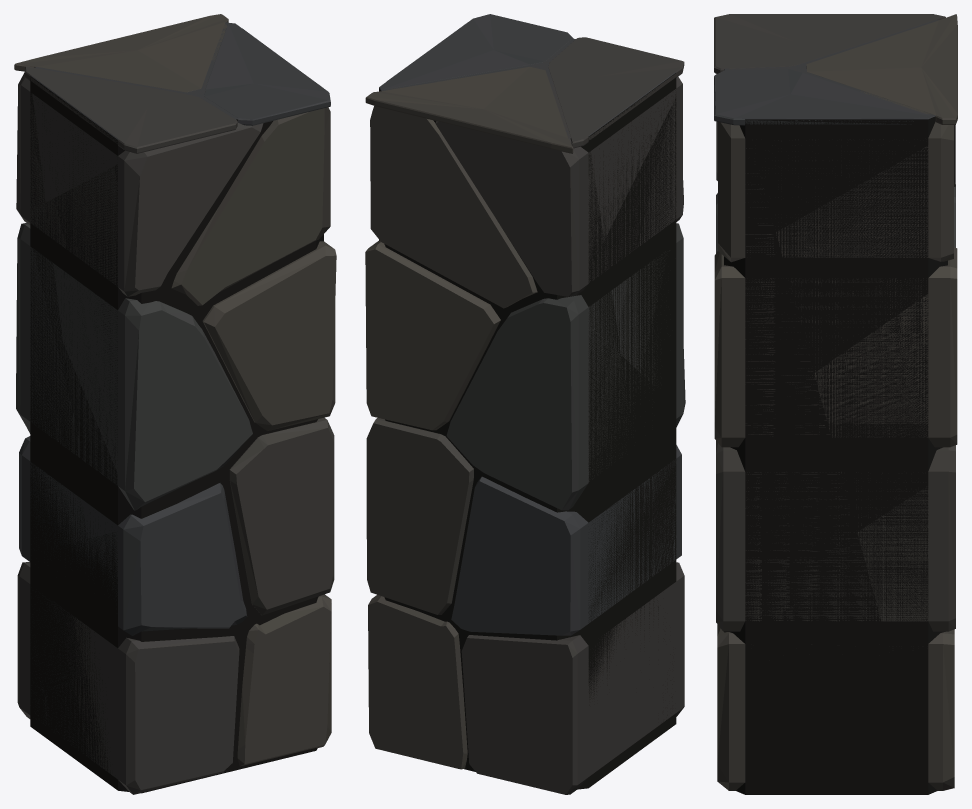
File: Wall_Corner_1m.fbx
3 views of the same model, side by side, from view 1: azimuth 30°, elevation 25°; view 2: azimuth 150°, elevation 25°; view 3: azimuth 270°, elevation 25° (orthographic). The views are drawn at different scales.
Parts seen in each view (by area): view 1: Wall_Corner_1m; view 2: Wall_Corner_1m; view 3: Wall_Corner_1m.
Boxes of the visible parts, box(x1,y1,x2,y2) form: Wall_Corner_1m: box(14, 14, 336, 794); Wall_Corner_1m: box(365, 14, 685, 794); Wall_Corner_1m: box(714, 14, 957, 794).
Bounding box in the file's own units: 1 × 3 × 0.98.
Materials: 1 (1 with a texture image).
